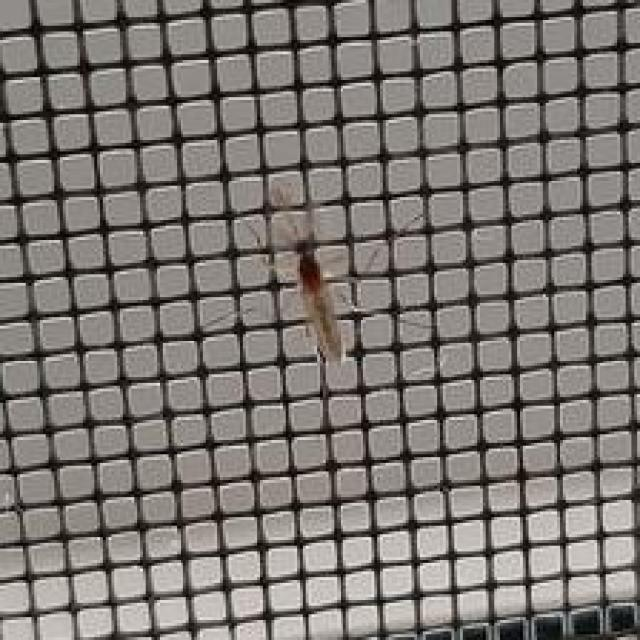Culex: (240, 180, 426, 369)
